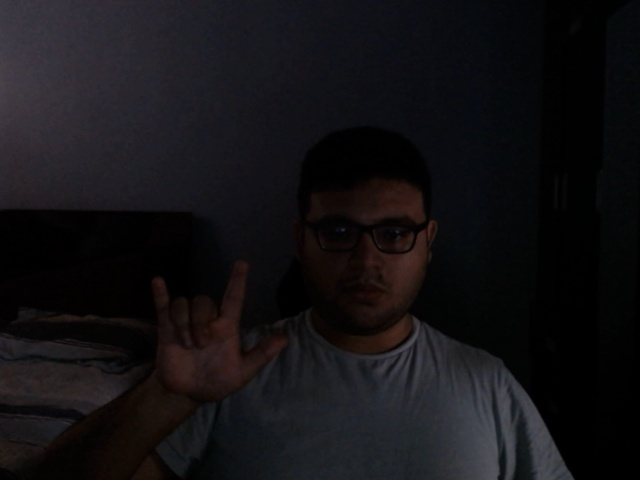I love you: (141, 256, 294, 409)
